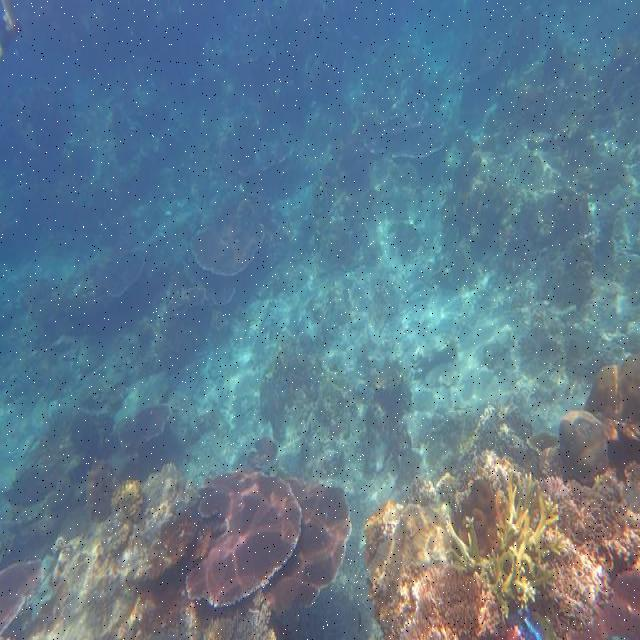reefs: (186, 465, 352, 618), (442, 464, 572, 611), (376, 563, 502, 639), (191, 199, 265, 276)
